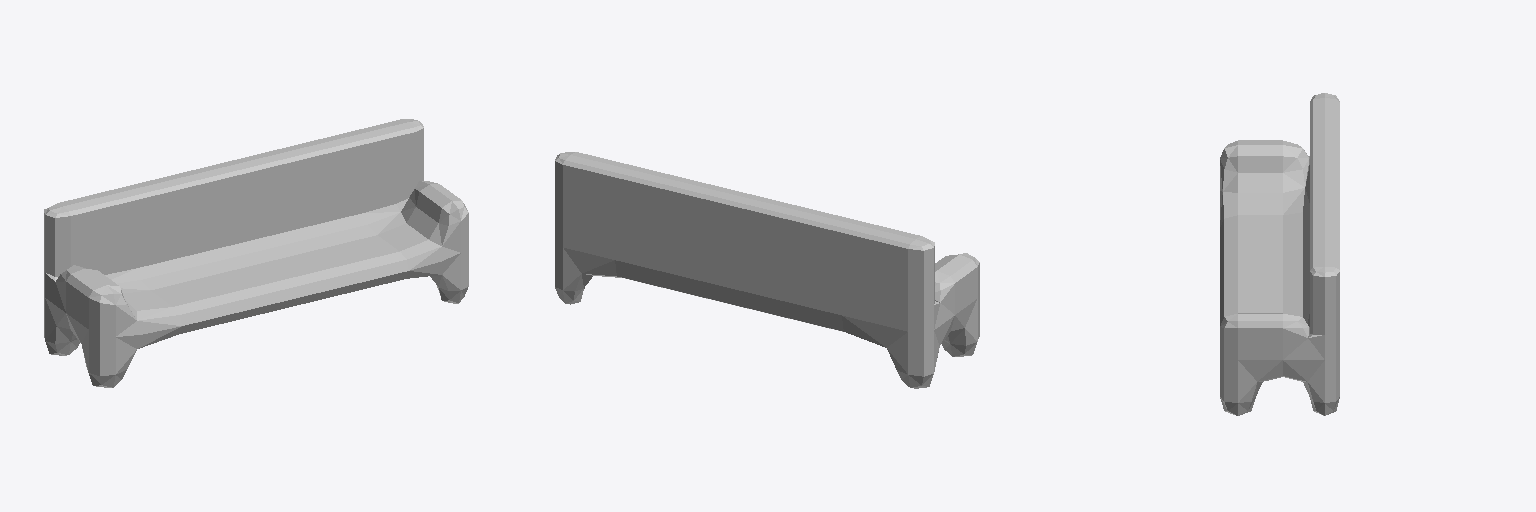
File: coach.obj
3 renders of one model, left to right at view 1: azimuth 30°, elevation 25°; view 2: azimuth 150°, elevation 25°; view 3: azimuth 270°, elevation 25°, orthographic.
Visible parts, largest first — view 1: Cube_Cube.001; view 2: Cube_Cube.001; view 3: Cube_Cube.001.
Part boxes in pixels (left/top/right/bottom): Cube_Cube.001: left=44, top=119, right=468, bottom=387; Cube_Cube.001: left=555, top=152, right=979, bottom=388; Cube_Cube.001: left=1220, top=93, right=1339, bottom=415.
Size of the model in its own units: 7.23 by 2.74 by 2.